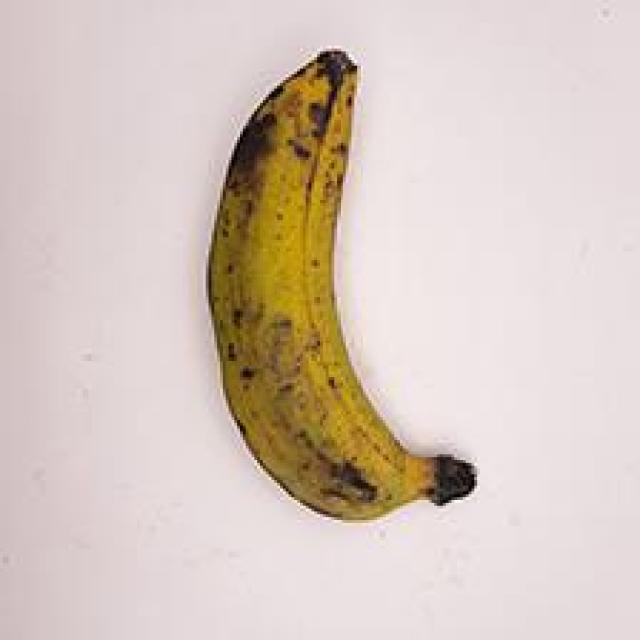Overripe: (175, 29, 500, 539)
